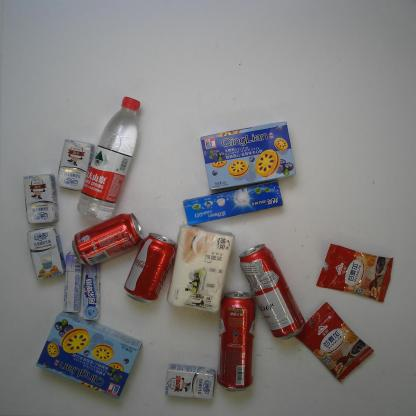Alcohol: (235, 244, 306, 342), (216, 289, 258, 393)
Candy: (81, 261, 103, 322), (62, 253, 81, 314)
Dessert: (35, 312, 144, 401), (199, 119, 296, 192)
Drink: (78, 95, 141, 223), (122, 232, 178, 305), (72, 212, 143, 268)
Instant Drink: (295, 302, 374, 385), (316, 243, 393, 303)
Milk: (26, 226, 66, 280), (56, 139, 96, 192), (166, 362, 216, 402), (22, 174, 60, 224)
Personal Hygiene: (181, 180, 283, 226)
Tissue: (168, 225, 235, 314)
